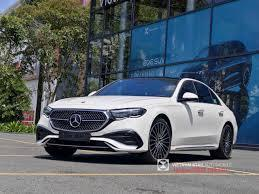mercedes: (69, 110, 83, 129)
